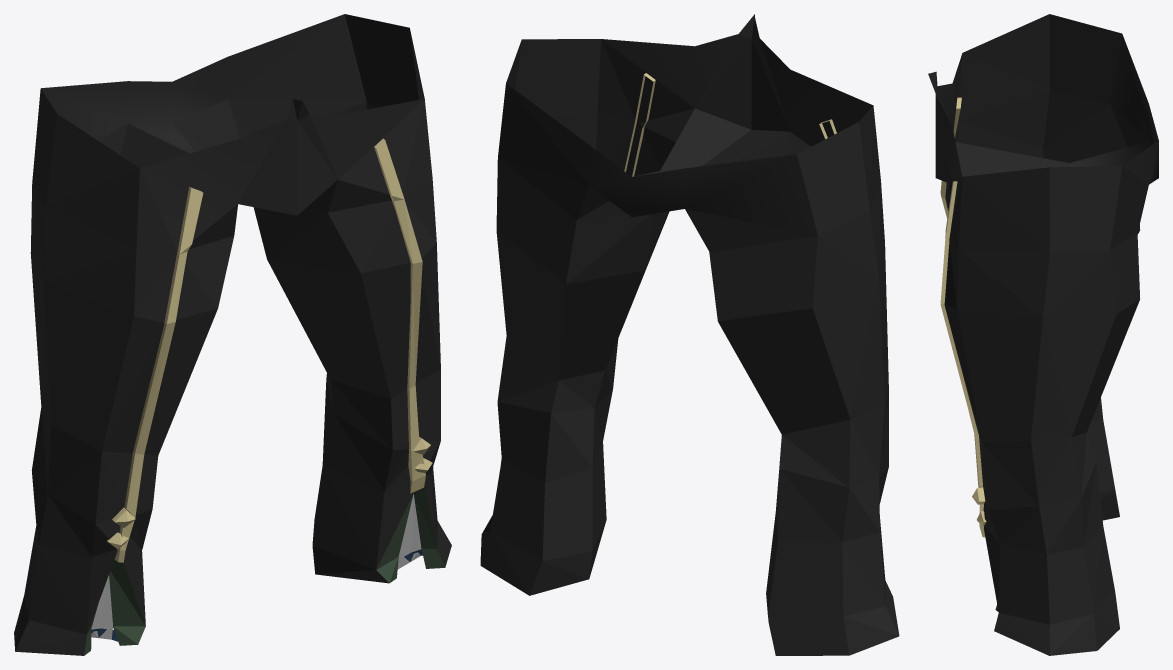
Rendered from LegendaryStarmagiPants.dae.
The picture shows the model from 3 angles, left to right: view 1: azimuth 30°, elevation 25°; view 2: azimuth 150°, elevation 25°; view 3: azimuth 270°, elevation 25°; orthographic projection. The views are drawn at different scales.
Visible parts, largest first — view 1: Pants; view 2: Pants; view 3: Pants.
Boxes of the visible parts, x1,y1,x2,y2 form: Pants: (14, 14, 451, 655); Pants: (480, 14, 899, 655); Pants: (928, 14, 1158, 655).
Size of the model in its own units: 2.7 by 1.39 by 3.31.
